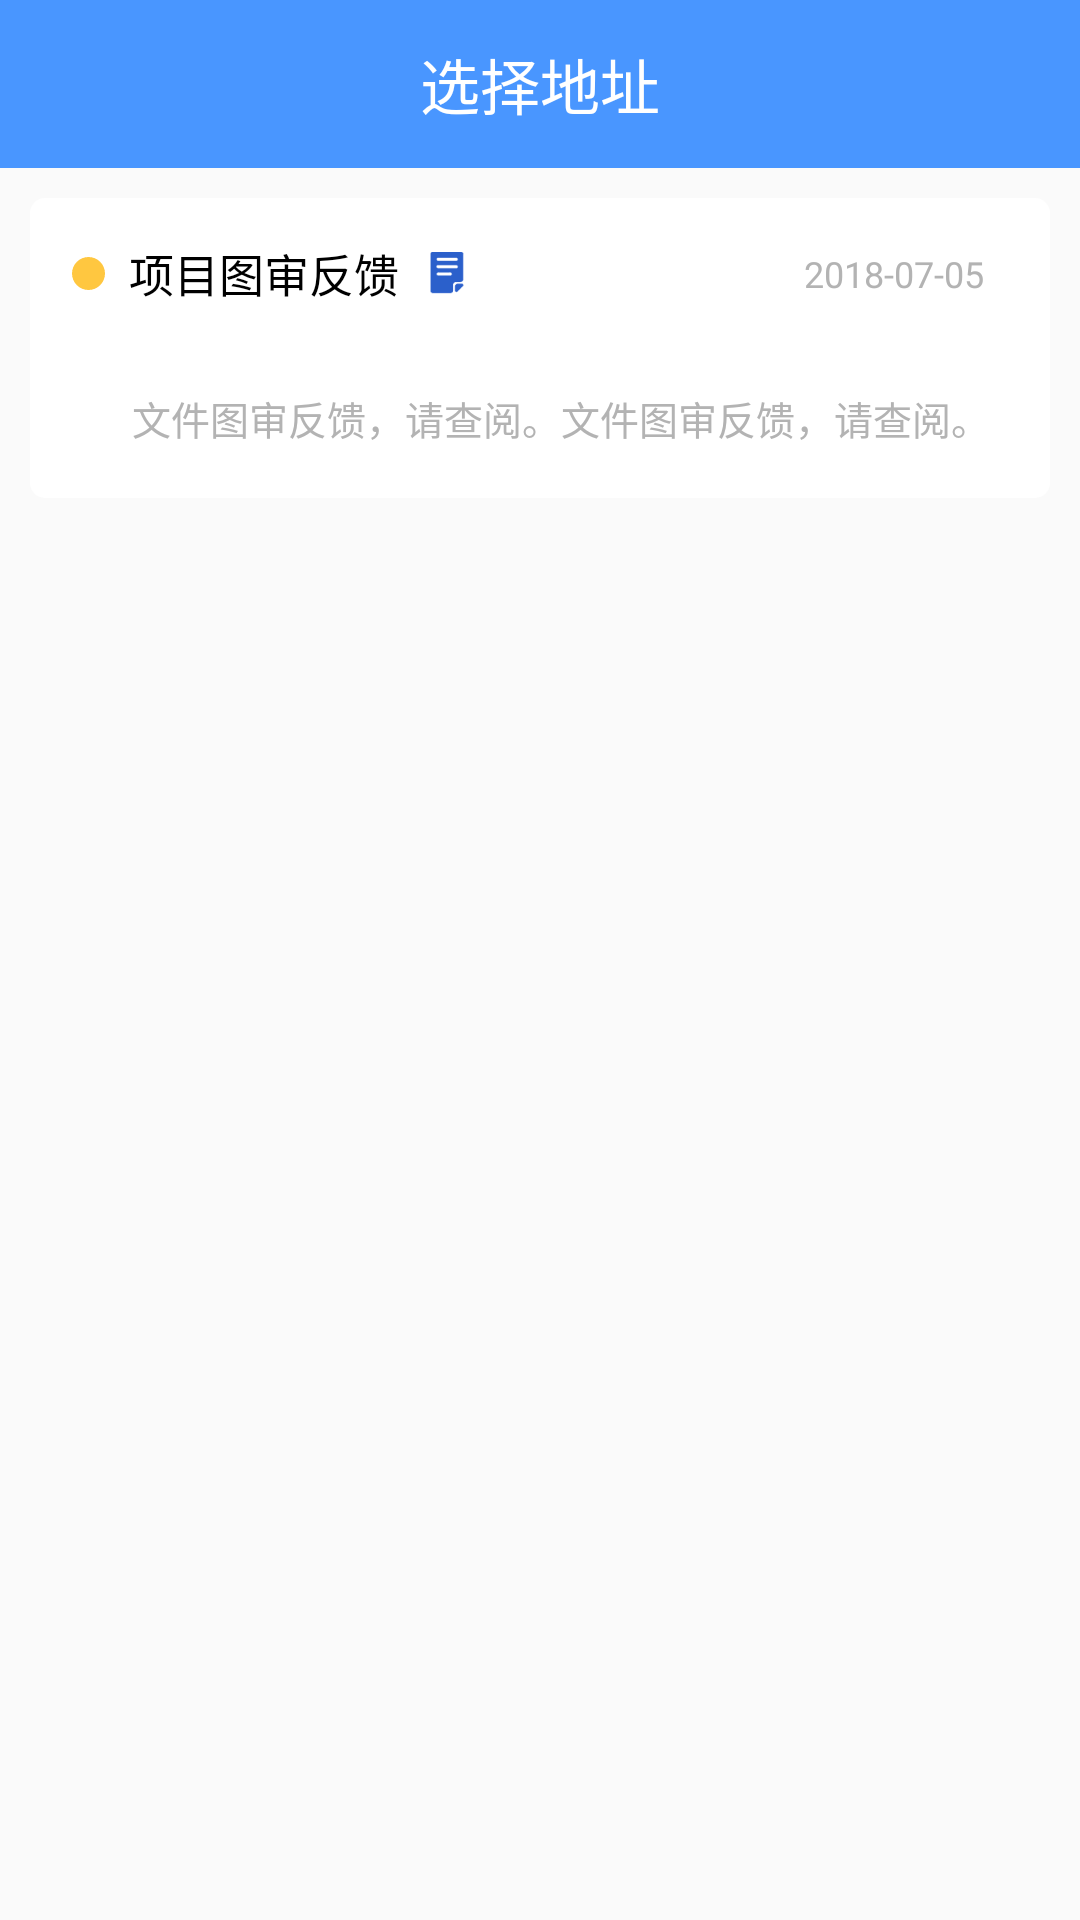

Where icons sit on this 1080×1920 app screen, as [x1,y1,x2,y2]:
file index: [430,252,464,294]
